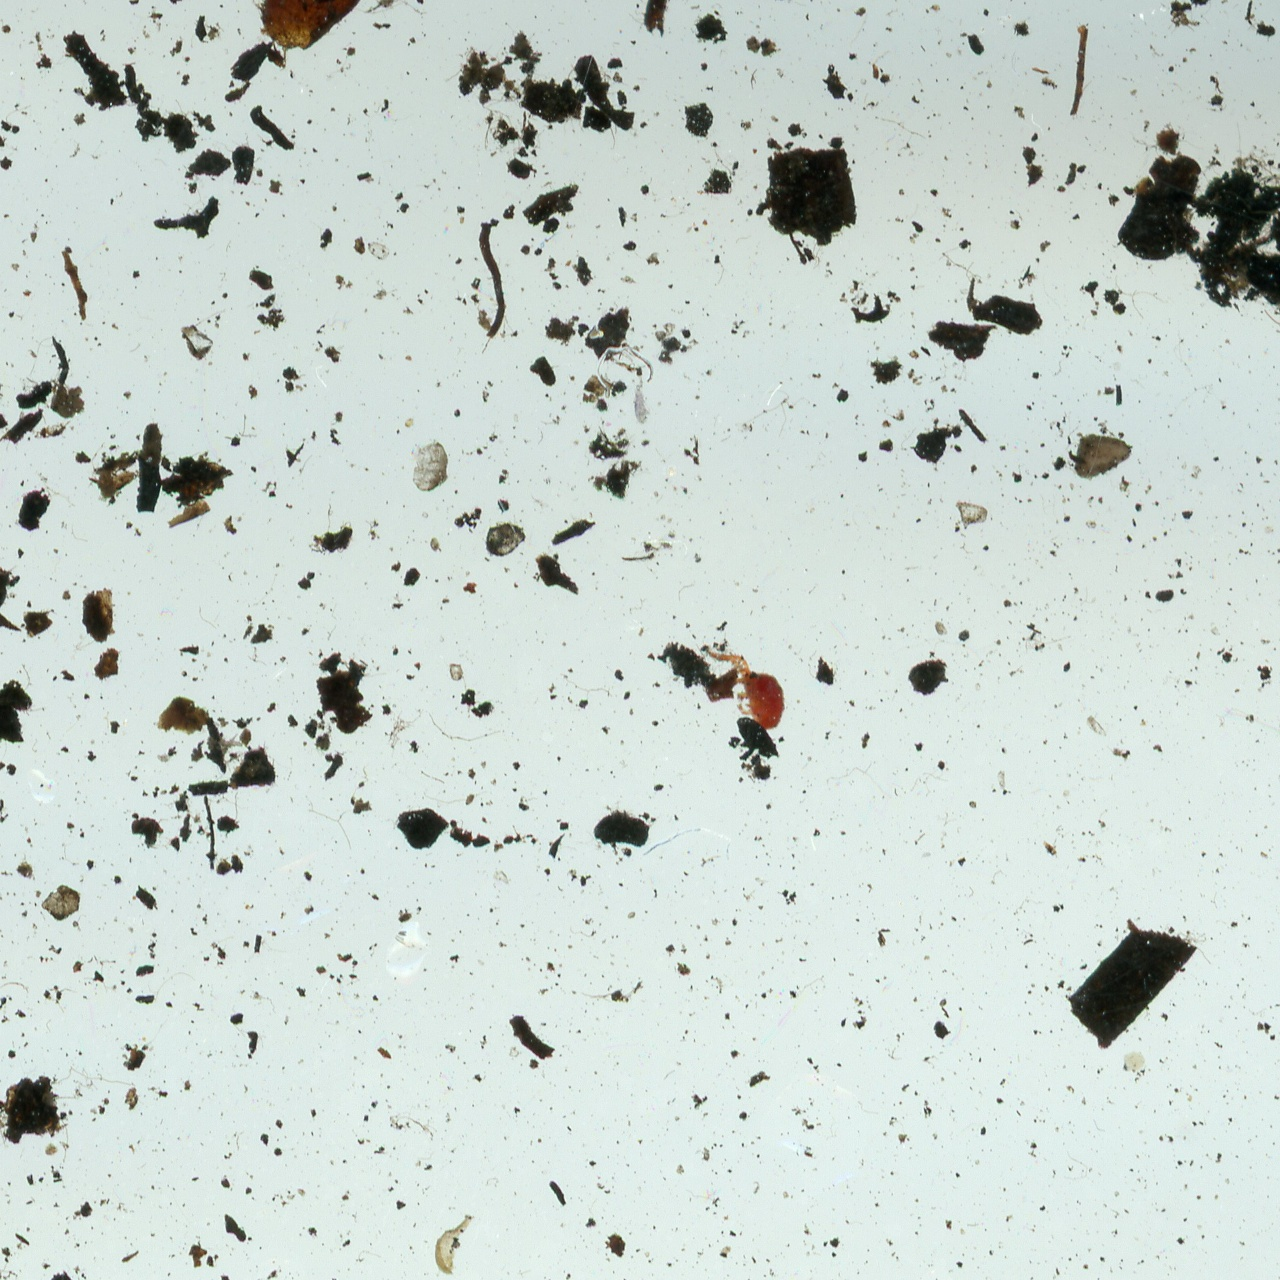arthropod: (695, 620, 806, 745)
